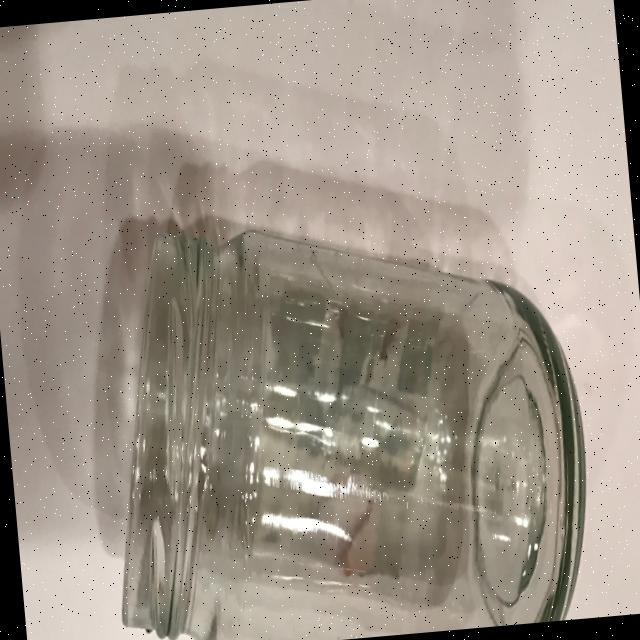glass: (87, 197, 599, 640)
